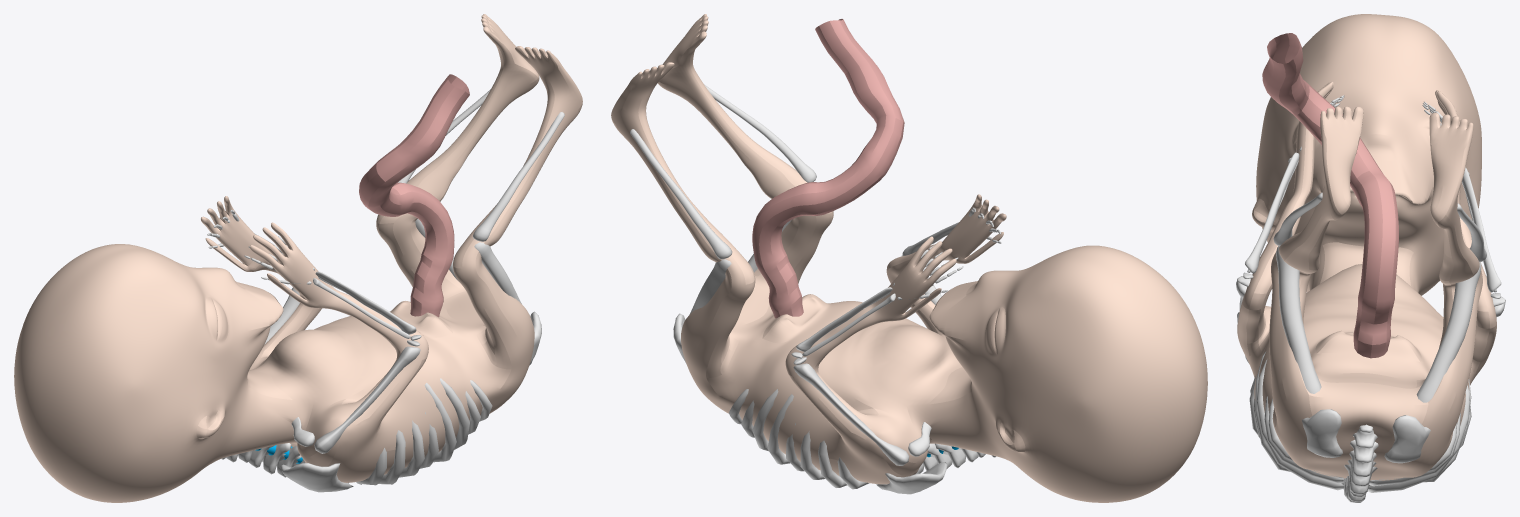
File: week24.glb
The picture shows the model from 3 angles, left to right: view 1: azimuth 30°, elevation 25°; view 2: azimuth 150°, elevation 25°; view 3: azimuth 270°, elevation 25°; orthographic projection. The views are drawn at different scales.
Parts seen in each view (by area): view 1: FetusBody_Skin_Master, UmbilicalCord_Master, handbones, ribcage, legbones, backbone; view 2: FetusBody_Skin_Master, UmbilicalCord_Master, handbones, legbones, ribcage, backbone; view 3: FetusBody_Skin_Master, UmbilicalCord_Master, legbones, ribcage, handbones, backbone.
Boxes of the visible parts, x1,y1,x2,y2 form: FetusBody_Skin_Master: (14,14,582,502); UmbilicalCord_Master: (359,74,469,317); handbones: (207,209,421,492); ribcage: (356,378,492,485); legbones: (398,89,564,365); backbone: (221,443,361,484); FetusBody_Skin_Master: (611,14,1207,502); UmbilicalCord_Master: (752,19,904,318); handbones: (791,207,1001,494); legbones: (630,84,816,364); ribcage: (729,389,869,489); backbone: (916,443,995,473); FetusBody_Skin_Master: (1237,14,1496,480); UmbilicalCord_Master: (1262,33,1398,358); legbones: (1273,192,1486,463); ribcage: (1249,352,1471,492); handbones: (1236,95,1505,362); backbone: (1343,424,1378,502).
Bounding box in the file's own units: 0.9803 × 0.7114 × 0.3634.
